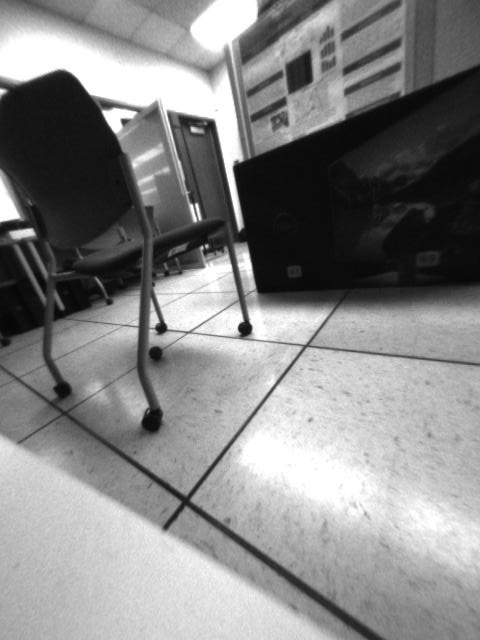dogtoy: (145, 343, 171, 367)
